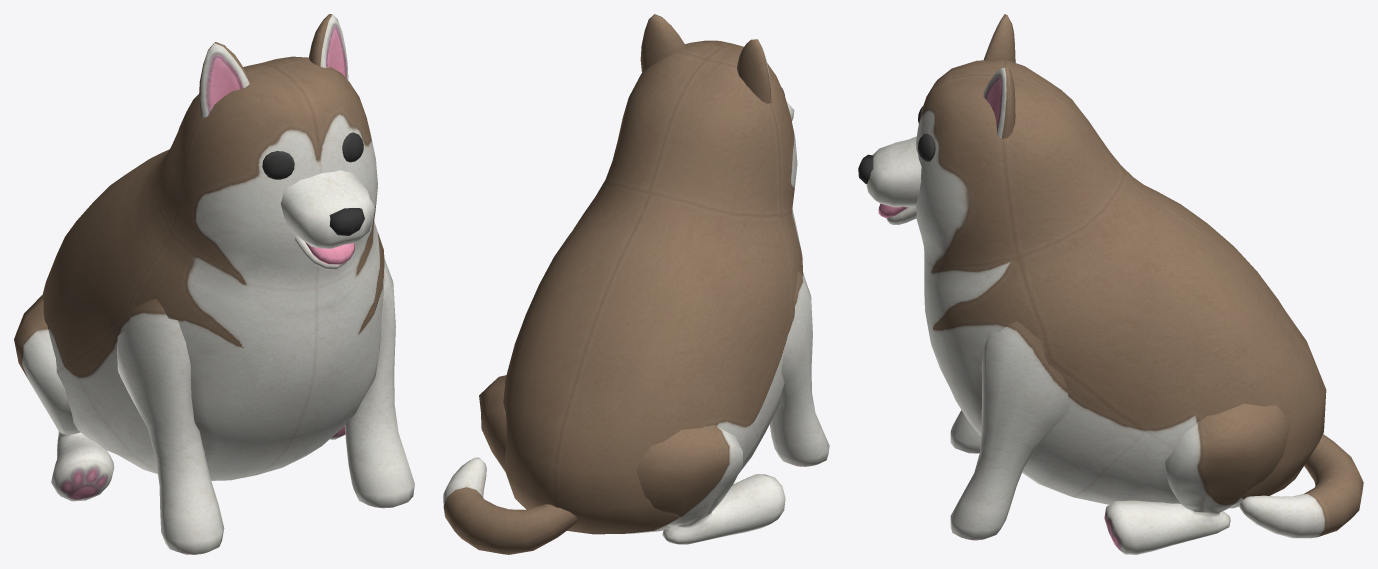
File: Husky.dae
3 views of the same model, side by side, from view 1: azimuth 30°, elevation 25°; view 2: azimuth 150°, elevation 25°; view 3: azimuth 270°, elevation 25° (orthographic). The views are drawn at different scales.
Parts seen in each view (by area): view 1: FatHusky; view 2: FatHusky; view 3: FatHusky.
Part boxes in pixels (x1,y1,x2,y2): FatHusky: (14,14,414,554); FatHusky: (443,14,829,554); FatHusky: (858,14,1363,554).
Bounding box in the file's own units: 44.23 × 67.96 × 67.46.
